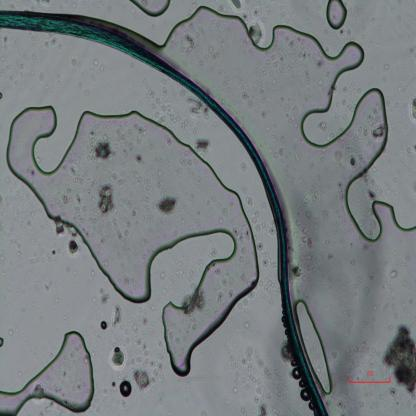Air bubble: (6, 100, 262, 376), (287, 21, 416, 248), (0, 330, 94, 415), (295, 298, 335, 396), (325, 0, 349, 32), (128, 1, 173, 17), (118, 376, 133, 400), (0, 336, 4, 348)
Background material: (234, 339, 275, 416), (383, 320, 416, 402), (238, 180, 274, 248), (119, 338, 166, 384), (146, 88, 181, 128), (294, 212, 314, 267), (262, 48, 288, 88), (94, 180, 118, 216), (72, 205, 98, 236), (56, 182, 87, 208), (107, 216, 130, 250), (178, 291, 207, 317), (156, 188, 180, 219), (179, 30, 200, 59), (92, 136, 116, 161), (360, 174, 380, 204), (267, 131, 289, 158), (298, 181, 322, 205), (186, 91, 207, 118), (133, 364, 153, 392), (108, 343, 127, 372), (126, 119, 148, 144), (366, 114, 386, 141), (247, 18, 266, 46), (154, 270, 178, 291), (202, 45, 221, 71), (290, 39, 311, 62), (52, 220, 75, 241), (193, 131, 213, 155), (34, 242, 58, 262), (38, 34, 63, 52), (279, 105, 299, 126), (288, 258, 307, 280), (358, 216, 377, 238), (406, 92, 416, 128), (335, 174, 347, 202), (343, 152, 361, 168), (89, 57, 107, 73), (312, 51, 327, 70), (96, 286, 110, 306), (290, 142, 304, 160), (112, 306, 123, 328), (67, 242, 80, 260), (45, 278, 57, 296), (84, 71, 98, 86), (4, 73, 21, 85), (24, 164, 38, 178), (65, 166, 81, 178), (66, 58, 81, 70), (237, 156, 248, 172), (315, 121, 329, 133), (214, 288, 224, 304), (337, 98, 350, 110), (35, 0, 57, 7), (358, 240, 368, 254), (219, 276, 230, 288), (100, 318, 110, 331), (241, 87, 250, 101), (389, 266, 398, 279), (80, 87, 91, 97), (324, 252, 334, 262), (27, 216, 36, 227), (38, 69, 45, 81), (136, 153, 143, 165), (132, 324, 140, 334), (341, 84, 348, 95), (380, 75, 388, 84), (28, 52, 37, 60), (261, 110, 267, 120), (0, 88, 5, 100), (2, 36, 8, 46), (215, 267, 221, 277), (318, 79, 324, 88), (243, 321, 249, 329), (102, 260, 110, 266), (91, 266, 95, 277), (384, 64, 390, 70)
Microfibre: (0, 9, 331, 414)
